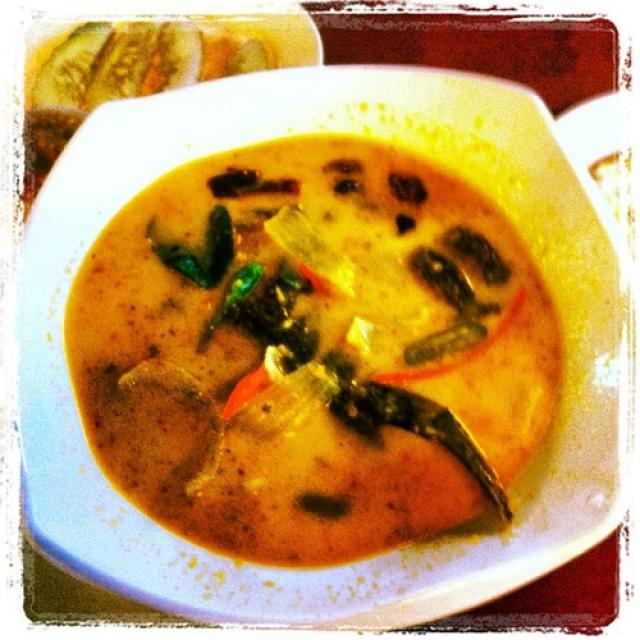熟制海鲜: (44, 71, 584, 584)
